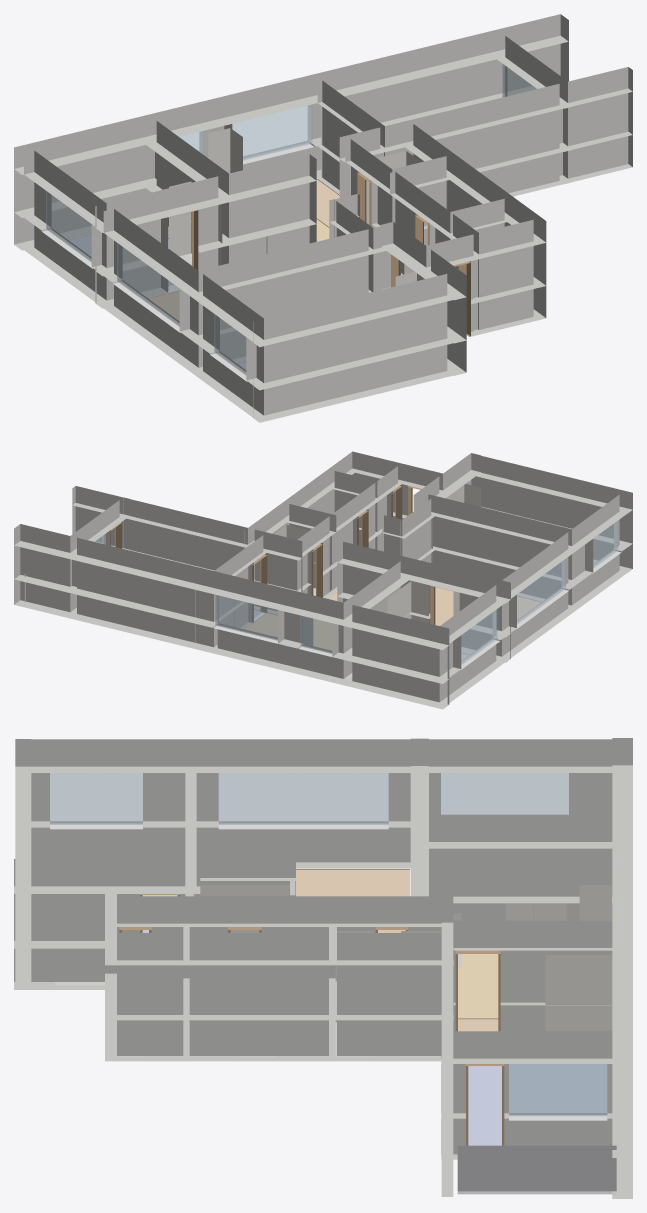
3 views of the same model, one above another, from view 1: azimuth 30°, elevation 25°; view 2: azimuth 150°, elevation 25°; view 3: azimuth 270°, elevation 25° (orthographic). The views are drawn at different scales.
Parts seen in each view (by area): view 1: walls, window_0, window_7, window_3, furniture_2_closet, furniture_1_closet, window_5, sill_7, furniture_3_closet, floor_2_Living_Room, window_2; view 2: walls, window_0, window_7, furniture_2_closet, window_3, window_1, floor_3_Living_Room, window_5, furniture_4_closet, floor_1_Kitchen, furniture_6_closet, door_10 (+2 smaller); view 3: walls, window_7, railings, floor_5_Bed_Room, window_3, window_2, furniture_0_closet, window_5, floor_3_Living_Room, floor_1_Kitchen, sill_7, furniture_1_closet (+3 smaller).
Part boxes in pixels (box(x1,y1,x2,y2)): walls: box(14, 14, 632, 422); window_0: box(232, 104, 312, 160); window_7: box(117, 238, 182, 326); window_3: box(46, 186, 94, 262); furniture_2_closet: box(169, 181, 222, 265); furniture_1_closet: box(208, 128, 242, 173); window_5: box(214, 314, 251, 375); sill_7: box(113, 280, 180, 332); furniture_3_closet: box(350, 151, 421, 224); floor_2_Living_Room: box(316, 179, 339, 226); window_2: box(502, 64, 536, 97); walls: box(14, 451, 632, 709); window_0: box(215, 595, 277, 640); window_7: box(515, 559, 565, 624); furniture_2_closet: box(387, 581, 428, 623); window_3: box(459, 607, 497, 664); window_1: box(300, 615, 332, 653); floor_3_Living_Room: box(327, 587, 541, 625); window_5: box(589, 517, 618, 568); furniture_4_closet: box(275, 525, 330, 597); floor_1_Kitchen: box(277, 619, 331, 650); furniture_6_closet: box(446, 484, 480, 506); door_10: box(311, 543, 322, 597); walls: box(14, 738, 632, 1198); window_7: box(218, 773, 388, 824); railings: box(457, 1144, 616, 1194); floor_5_Bed_Room: box(468, 1064, 606, 1145); window_3: box(441, 773, 568, 814); window_2: box(509, 1064, 607, 1116); furniture_0_closet: box(545, 955, 612, 1031); window_5: box(50, 773, 142, 824); floor_3_Living_Room: box(296, 869, 409, 932); floor_1_Kitchen: box(458, 954, 498, 1018); sill_7: box(218, 822, 388, 829); furniture_1_closet: box(579, 885, 611, 920).
Bounding box in the file's own units: 15.89 × 2.72 × 12.31.
